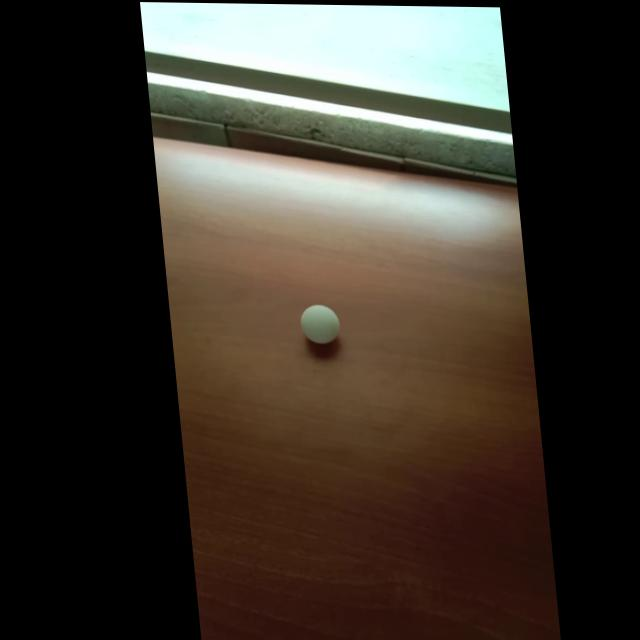white ball: (298, 304, 342, 345)
